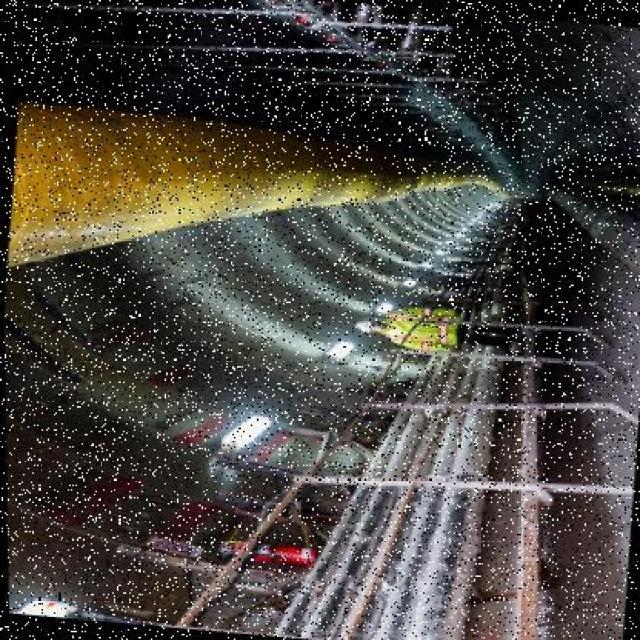helmet: (355, 317, 385, 335)
vest: (381, 303, 469, 352)
